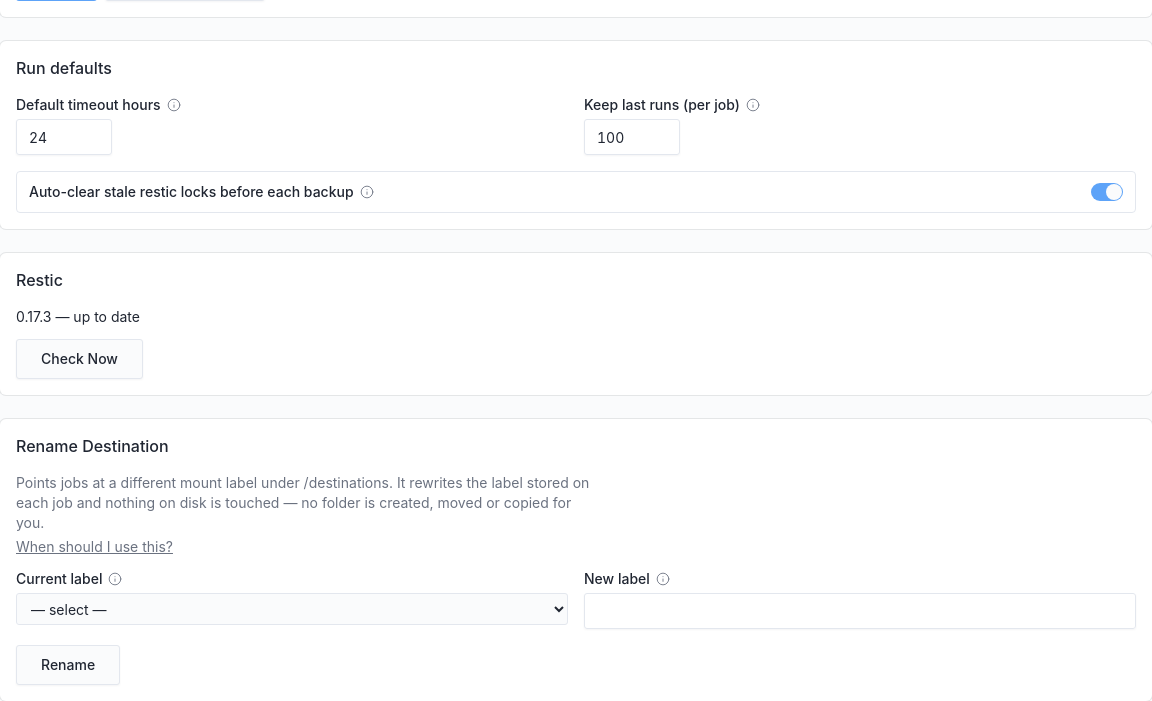
Settings › rename destination form › shows 409 conflict error when new label already exists
(page scrolled)
Type "existing" into the field labelled "New label".
click(860, 611); type("existing")  # box [584,593,1136,629]
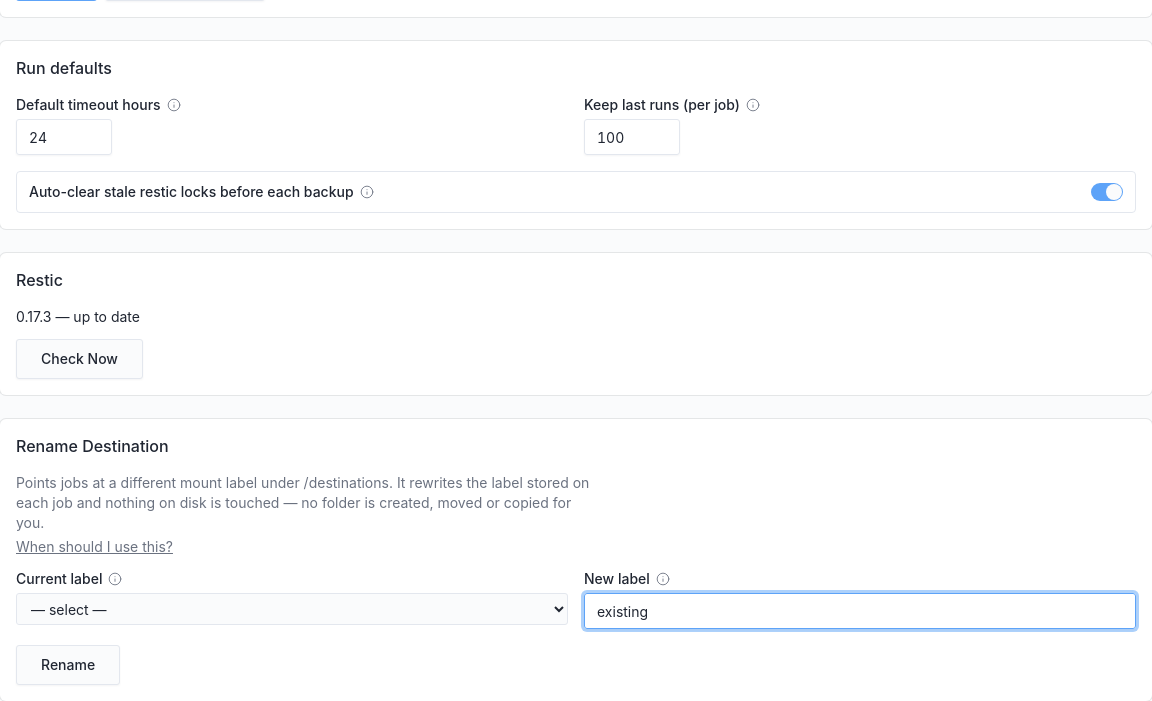
Click the button "Rename".
click(68, 665)  # box [16,645,120,685]
(page scrolled)
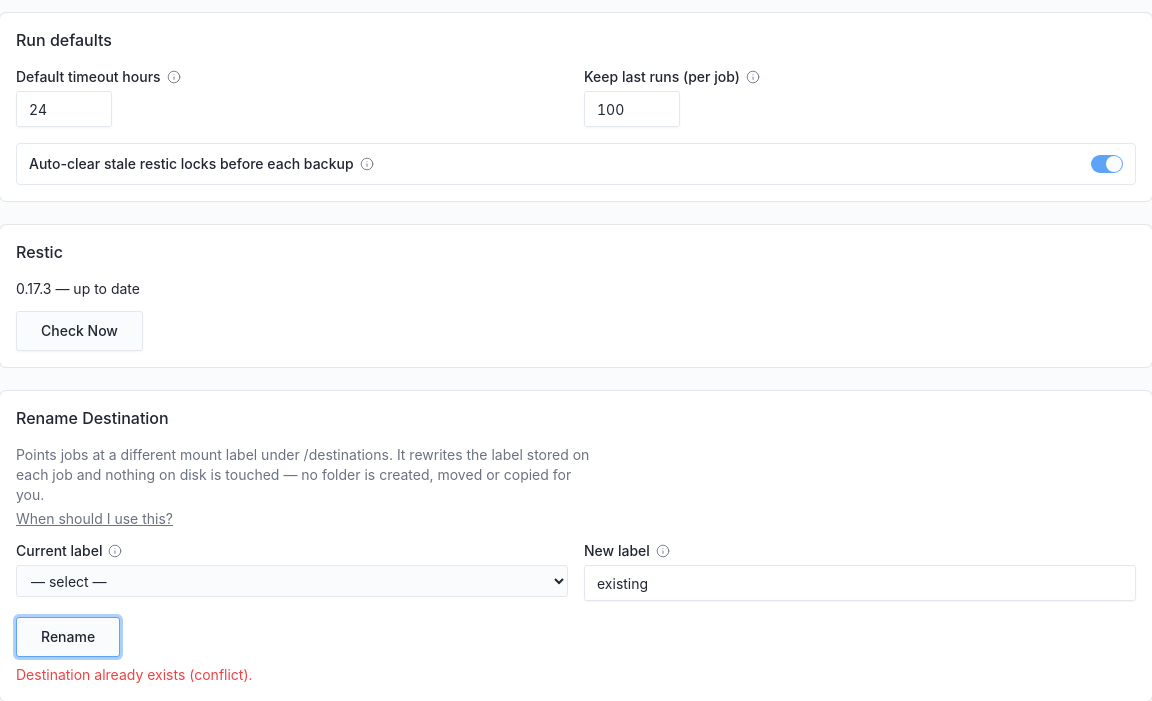
Now the text "Destination already exists (conflict)." is shown, box [16,666,253,683]
